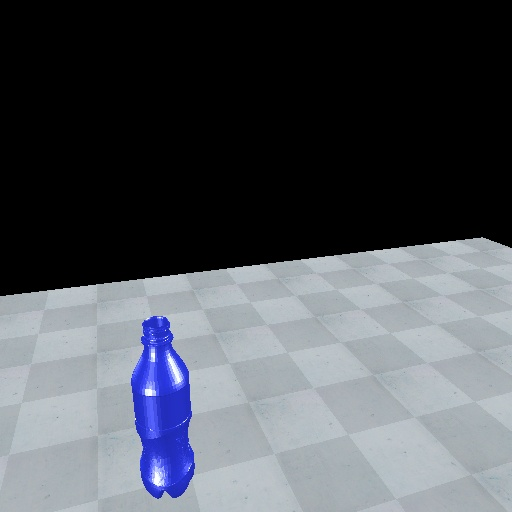bottle: (128, 314, 198, 501)
